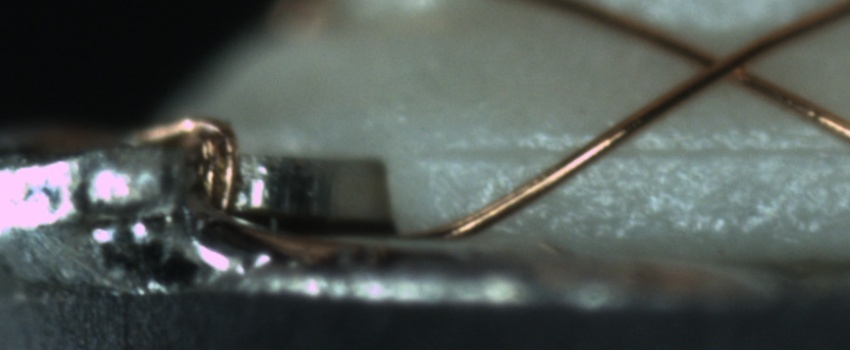CL: (679, 31, 774, 93)
DL: (424, 123, 849, 179)
TE: (121, 107, 248, 214)
